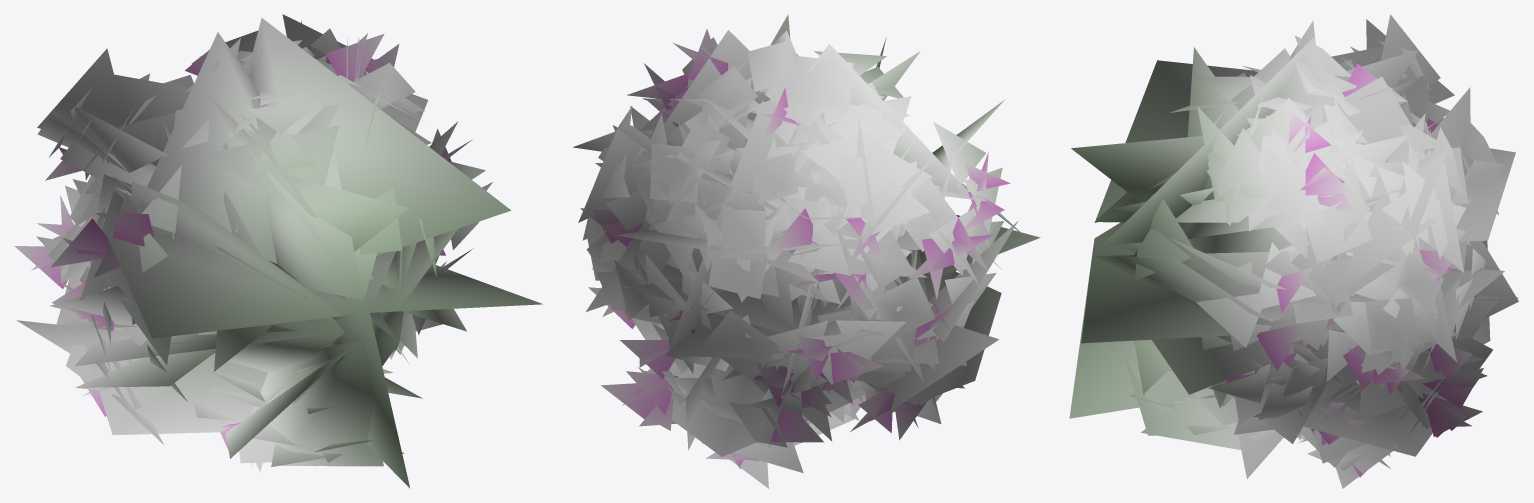
The model's file is SM_000614_tr057_flower02.fbx.
3 views of the same model, side by side, from view 1: azimuth 30°, elevation 25°; view 2: azimuth 150°, elevation 25°; view 3: azimuth 270°, elevation 25° (orthographic). The views are drawn at different scales.
Parts seen in each view (by area): view 1: SM_000614.001; view 2: SM_000614.001; view 3: SM_000614.001.
Part boxes in pixels (box(x1,y1,x2,y2)): SM_000614.001: box(14, 14, 542, 488); SM_000614.001: box(573, 14, 1040, 488); SM_000614.001: box(1069, 14, 1518, 488).
Bounding box in the file's own units: 1.95 × 2.02 × 1.83.
